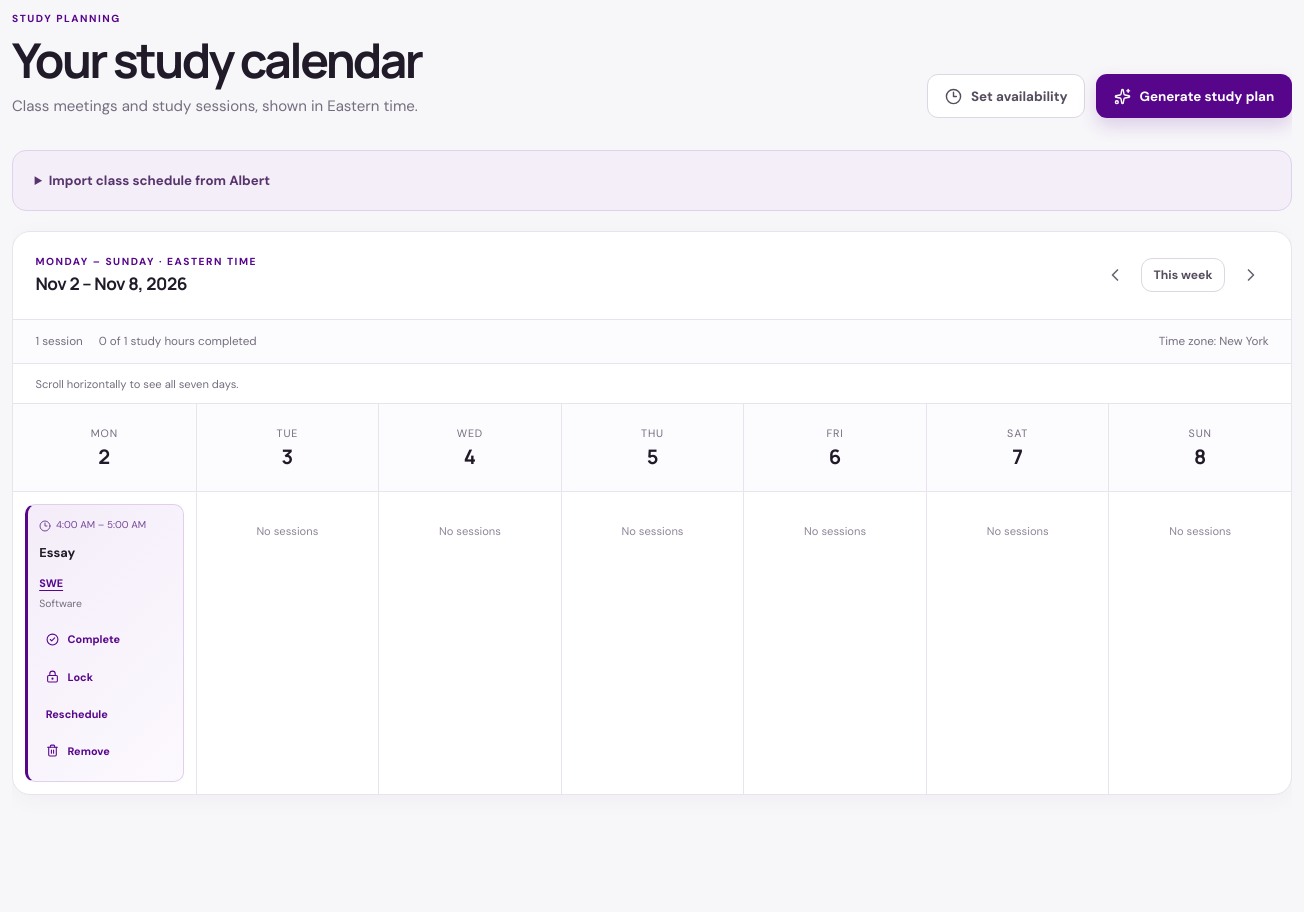
Test: failed lock leaves the session unlocked and displays an error
Step 1. Click the button with aria-label "Lock Essay" → (69, 676), box [39,660,100,694]
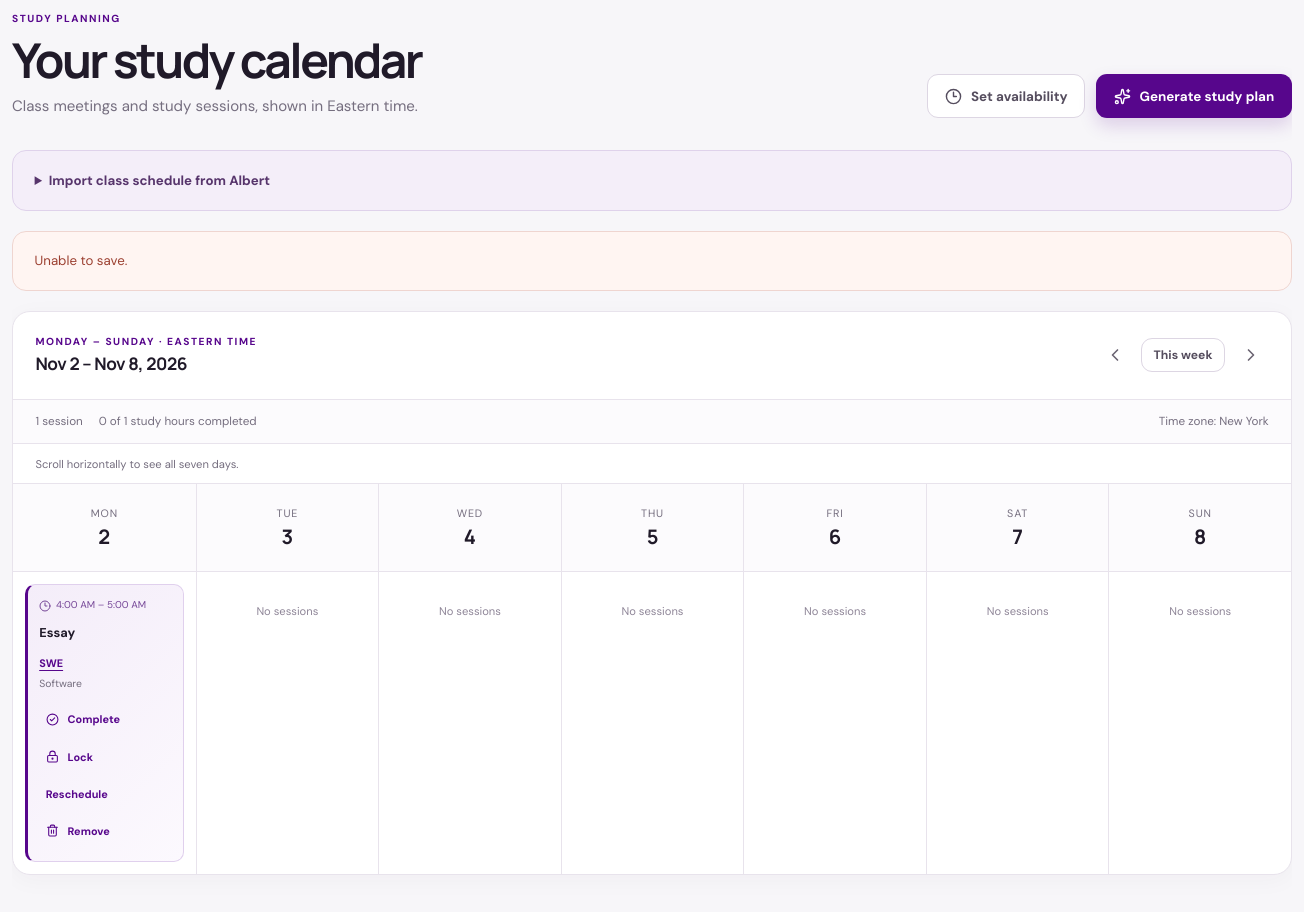
Expected: the button with aria-label "Lock Essay" is enabled, [39,740,100,774]
Expected: the message reads "Unable to save.", [35,252,127,269]
